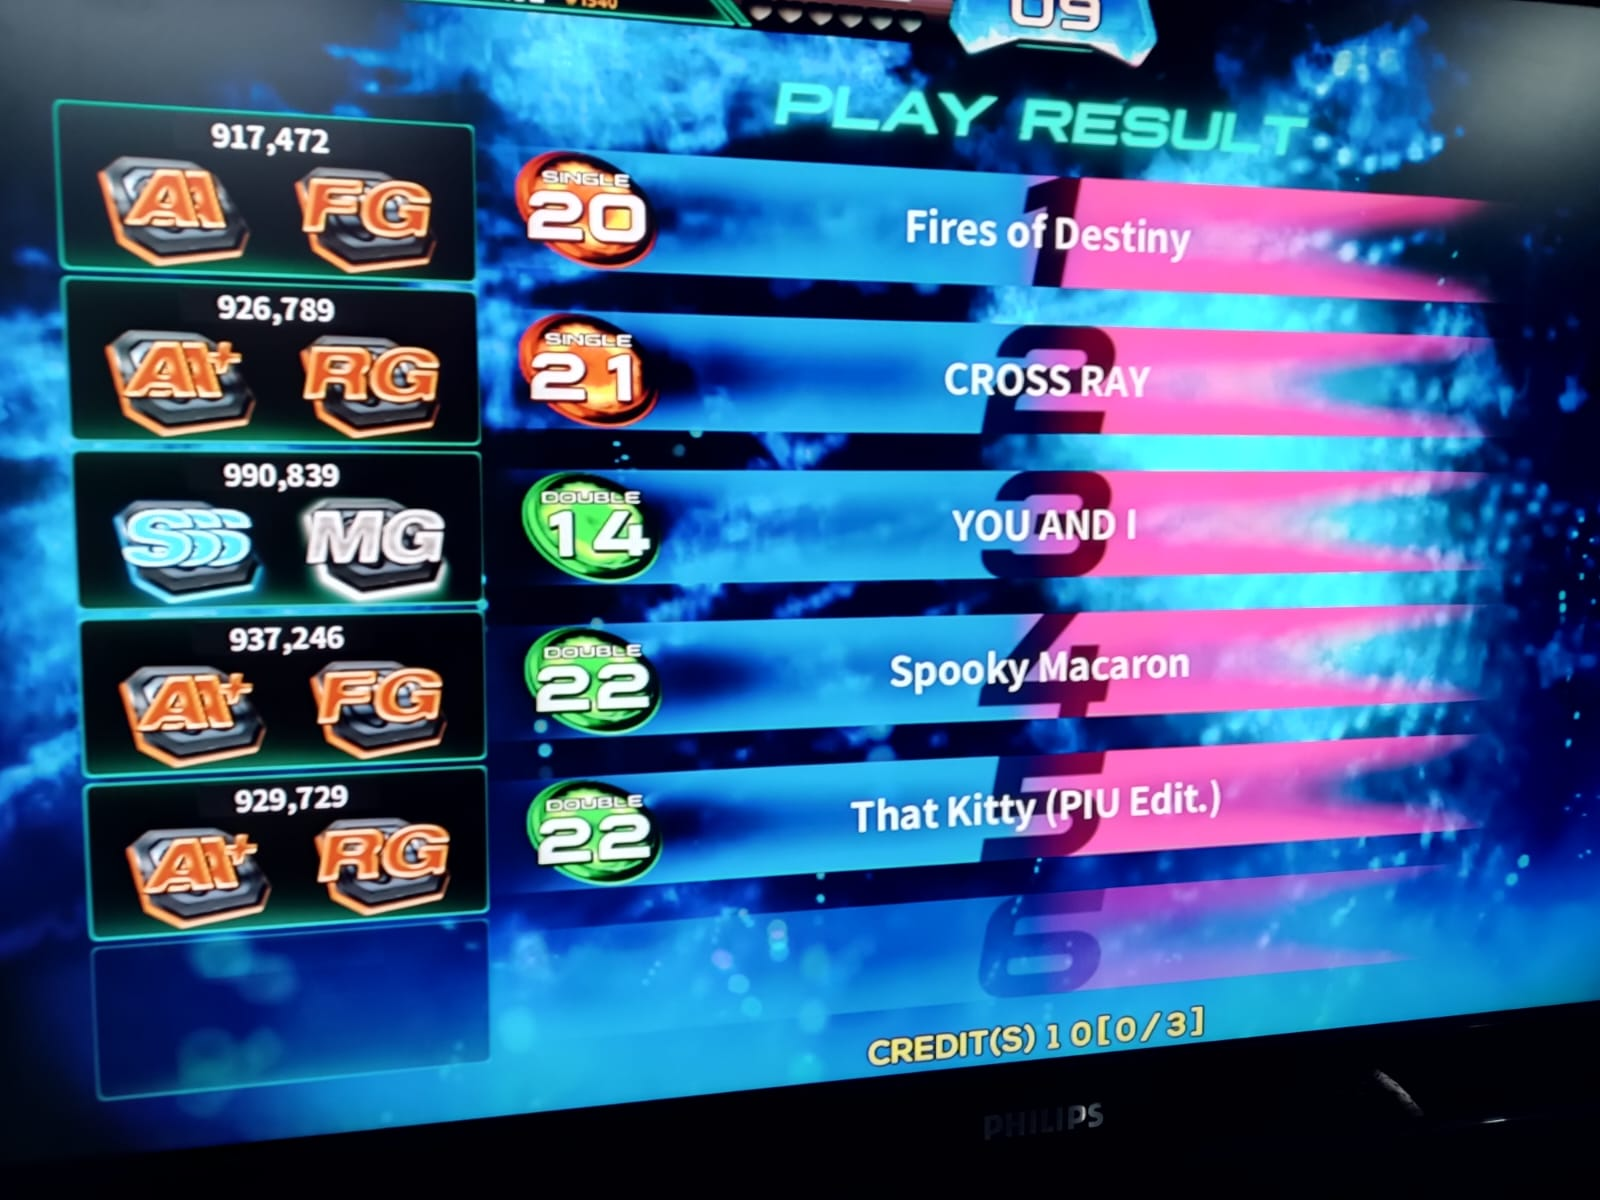fullscore: (0, 77, 1333, 918)
